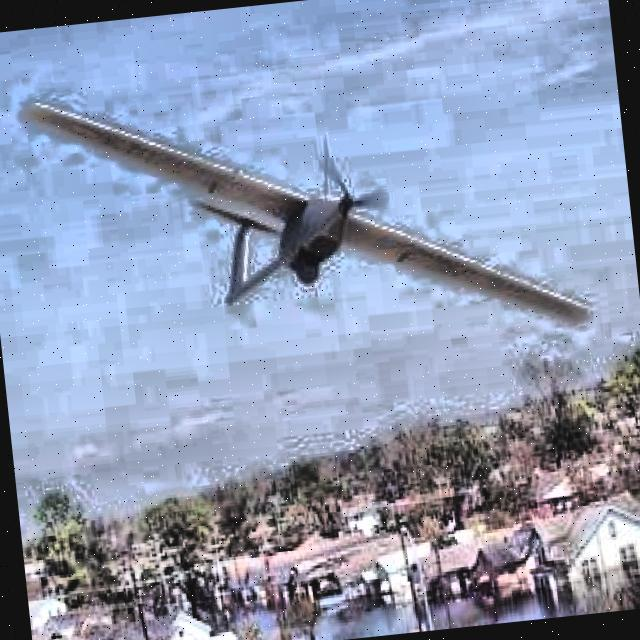iha: (6, 33, 600, 387)
